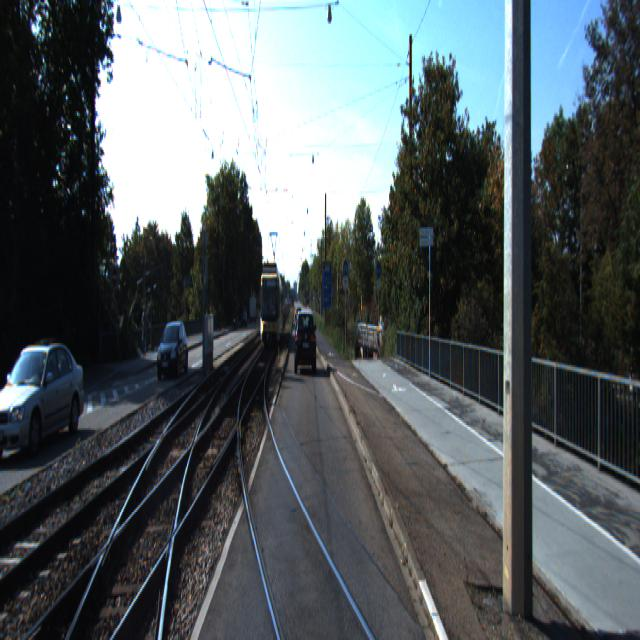Car: (0, 334, 90, 463), (258, 256, 284, 348), (154, 317, 190, 379), (295, 312, 315, 376)
